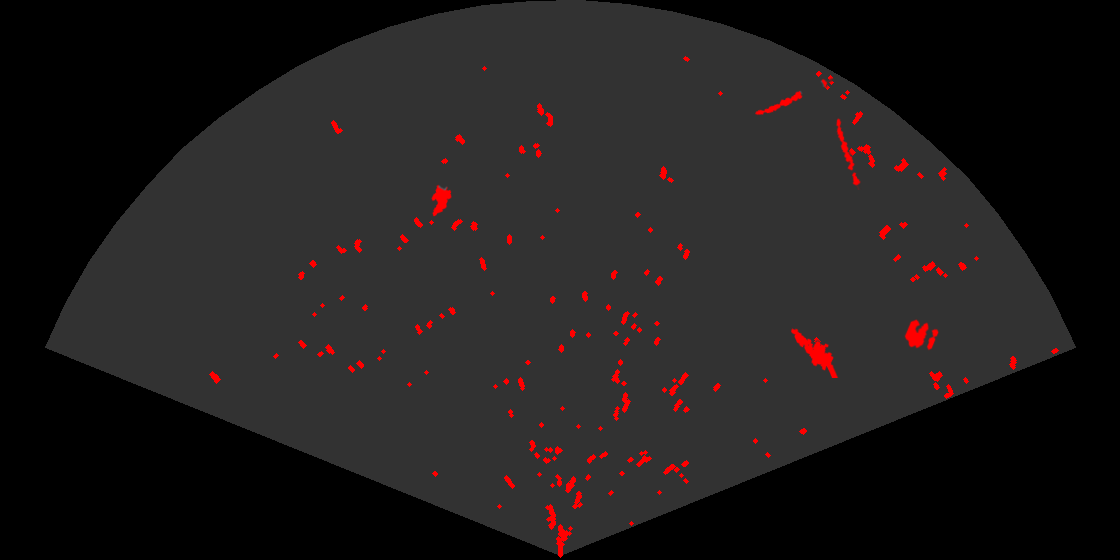AUV: (430, 183, 453, 218)
ball: (903, 318, 940, 352)
chain: (753, 77, 834, 117), (834, 116, 862, 190)
frogman: (789, 326, 840, 378)
